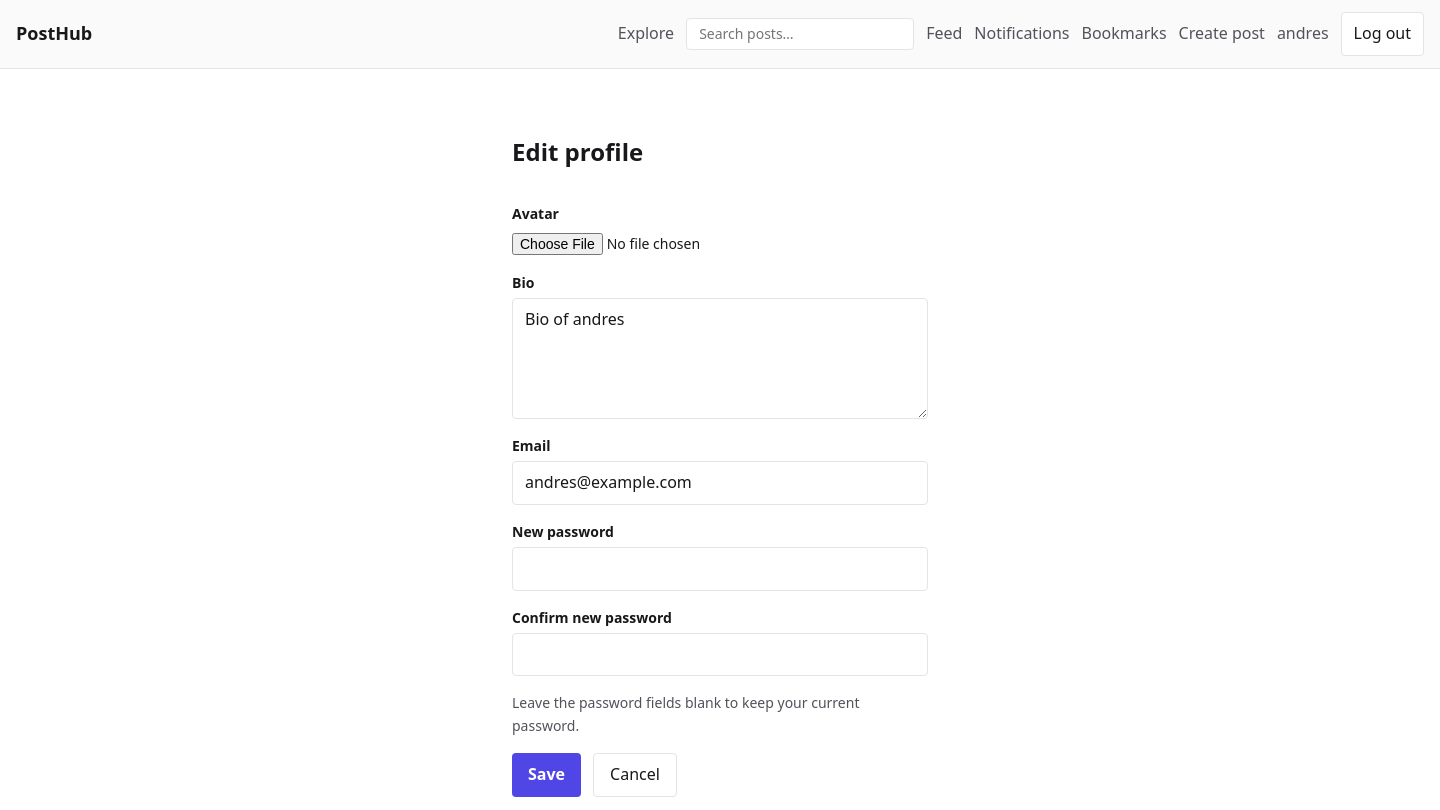
Test: Edit profile › saves a bio change and returns to the profile
Replace the text in the text box labelled "Bio" with "A new bio" at (720, 358), box [512,298,928,419]
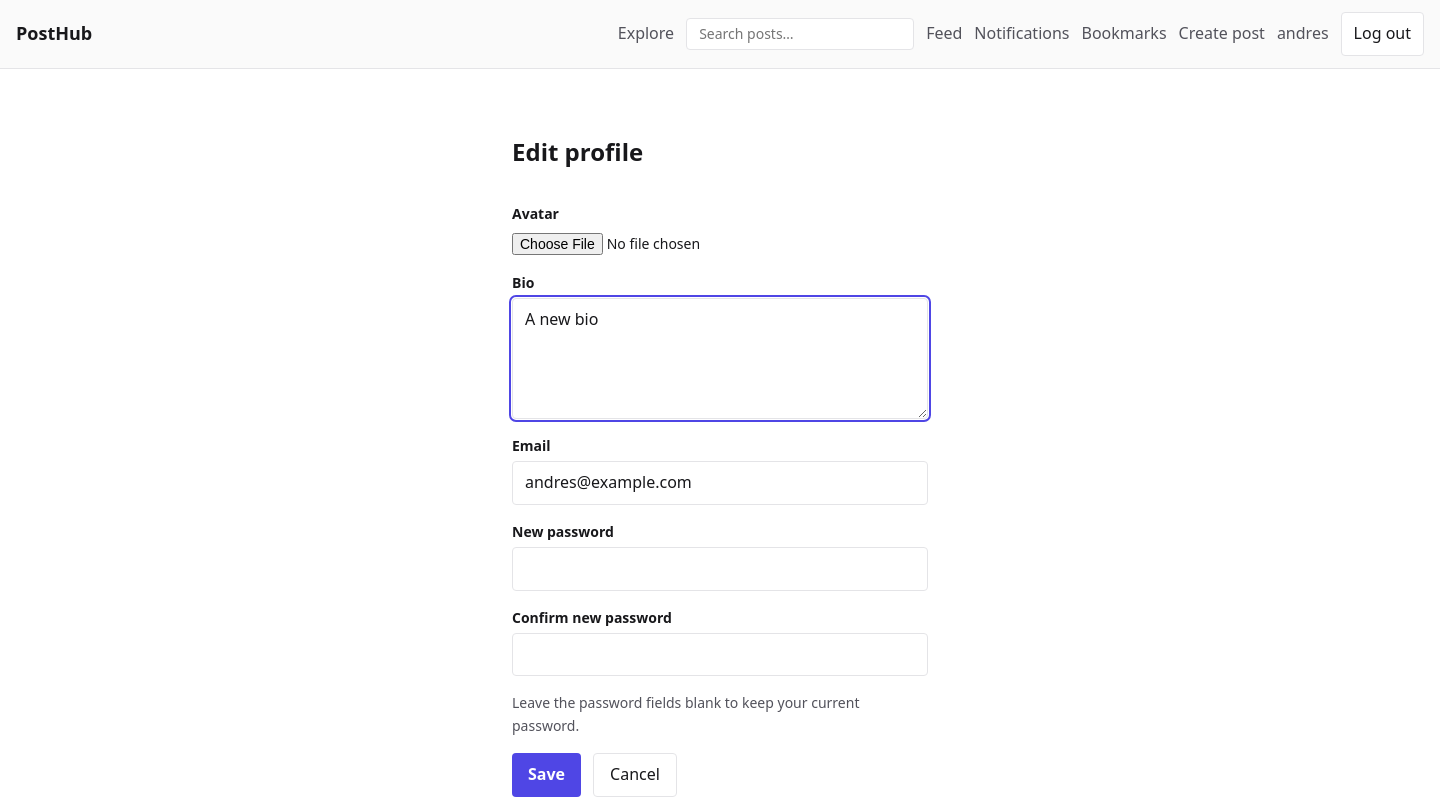
Click the button "Save" at (546, 775), box [512,753,581,797]
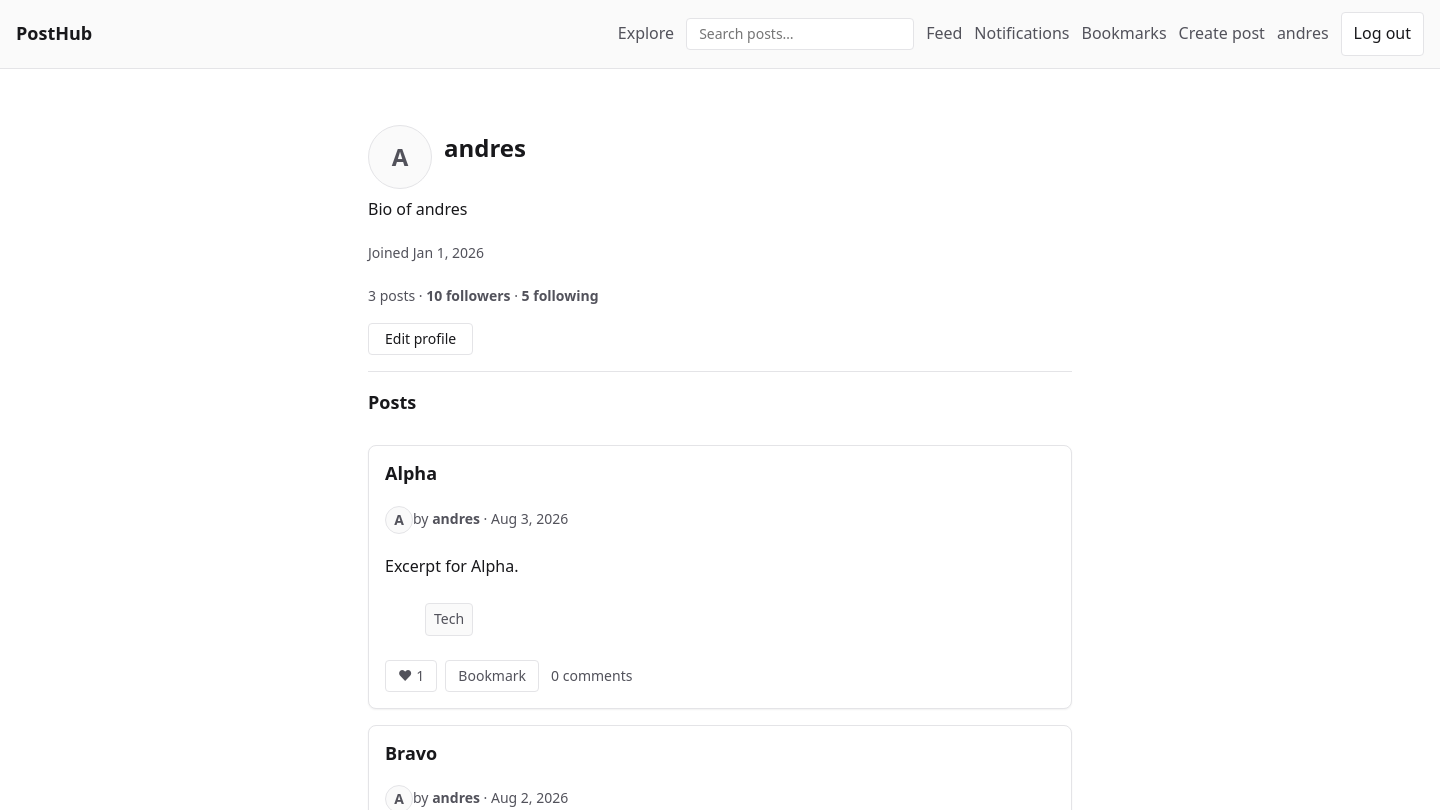
Check: the heading "andres" is shown, box [444,129,526,168]
